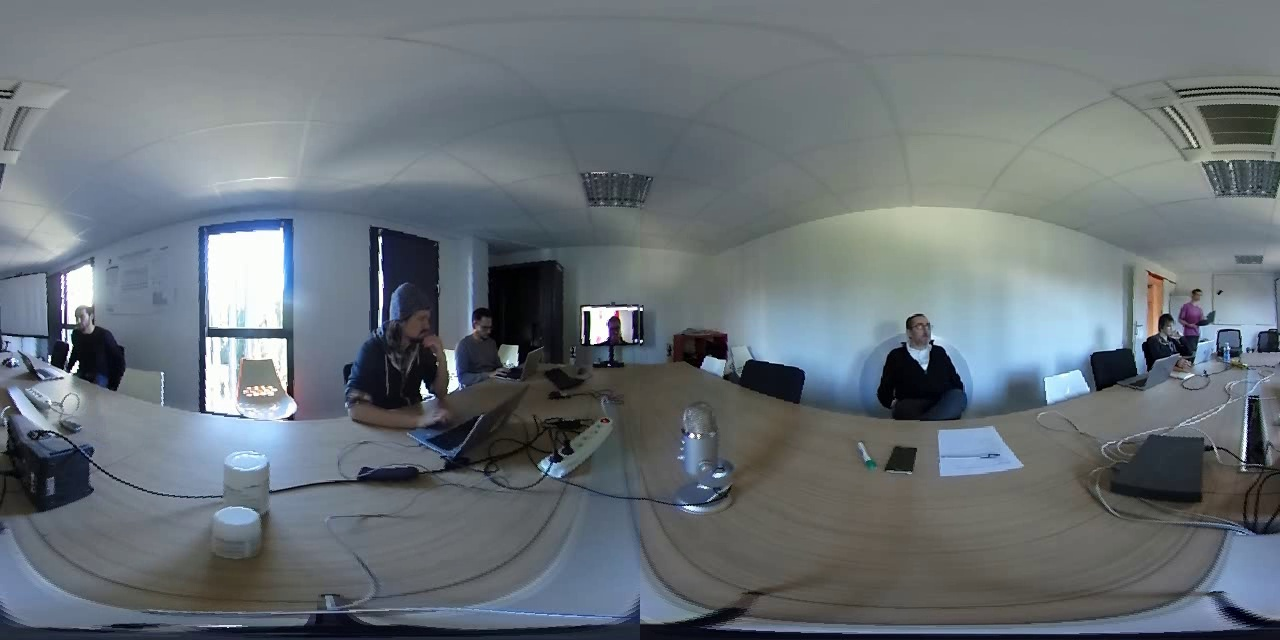person: (340, 277, 449, 415), (874, 307, 977, 413), (58, 297, 129, 370), (455, 301, 514, 374), (1185, 289, 1217, 362), (583, 304, 641, 340), (1141, 310, 1186, 355)
